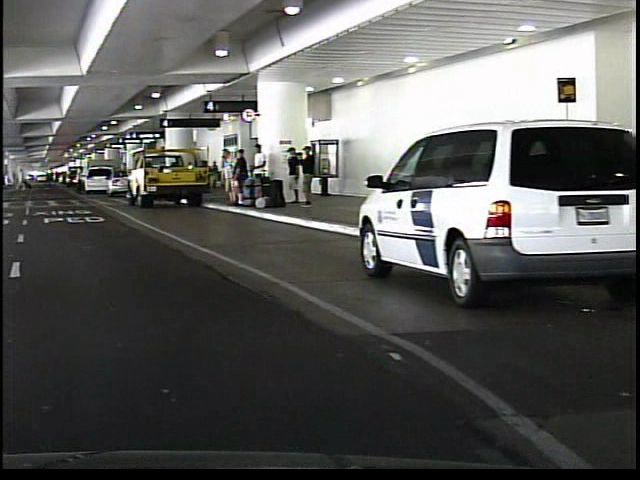person: (215, 143, 234, 204), (296, 143, 313, 208), (7, 161, 28, 195), (70, 164, 82, 196)
